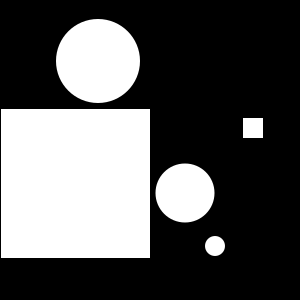circle: (1, 109, 150, 258), (243, 118, 263, 138)
rectangle: (56, 19, 140, 103), (156, 163, 215, 222), (205, 236, 225, 256)
